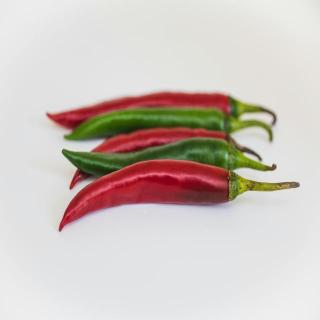Cabai Hijau: (64, 105, 220, 147)
Cabai Merah: (60, 162, 233, 232), (94, 124, 227, 160)
